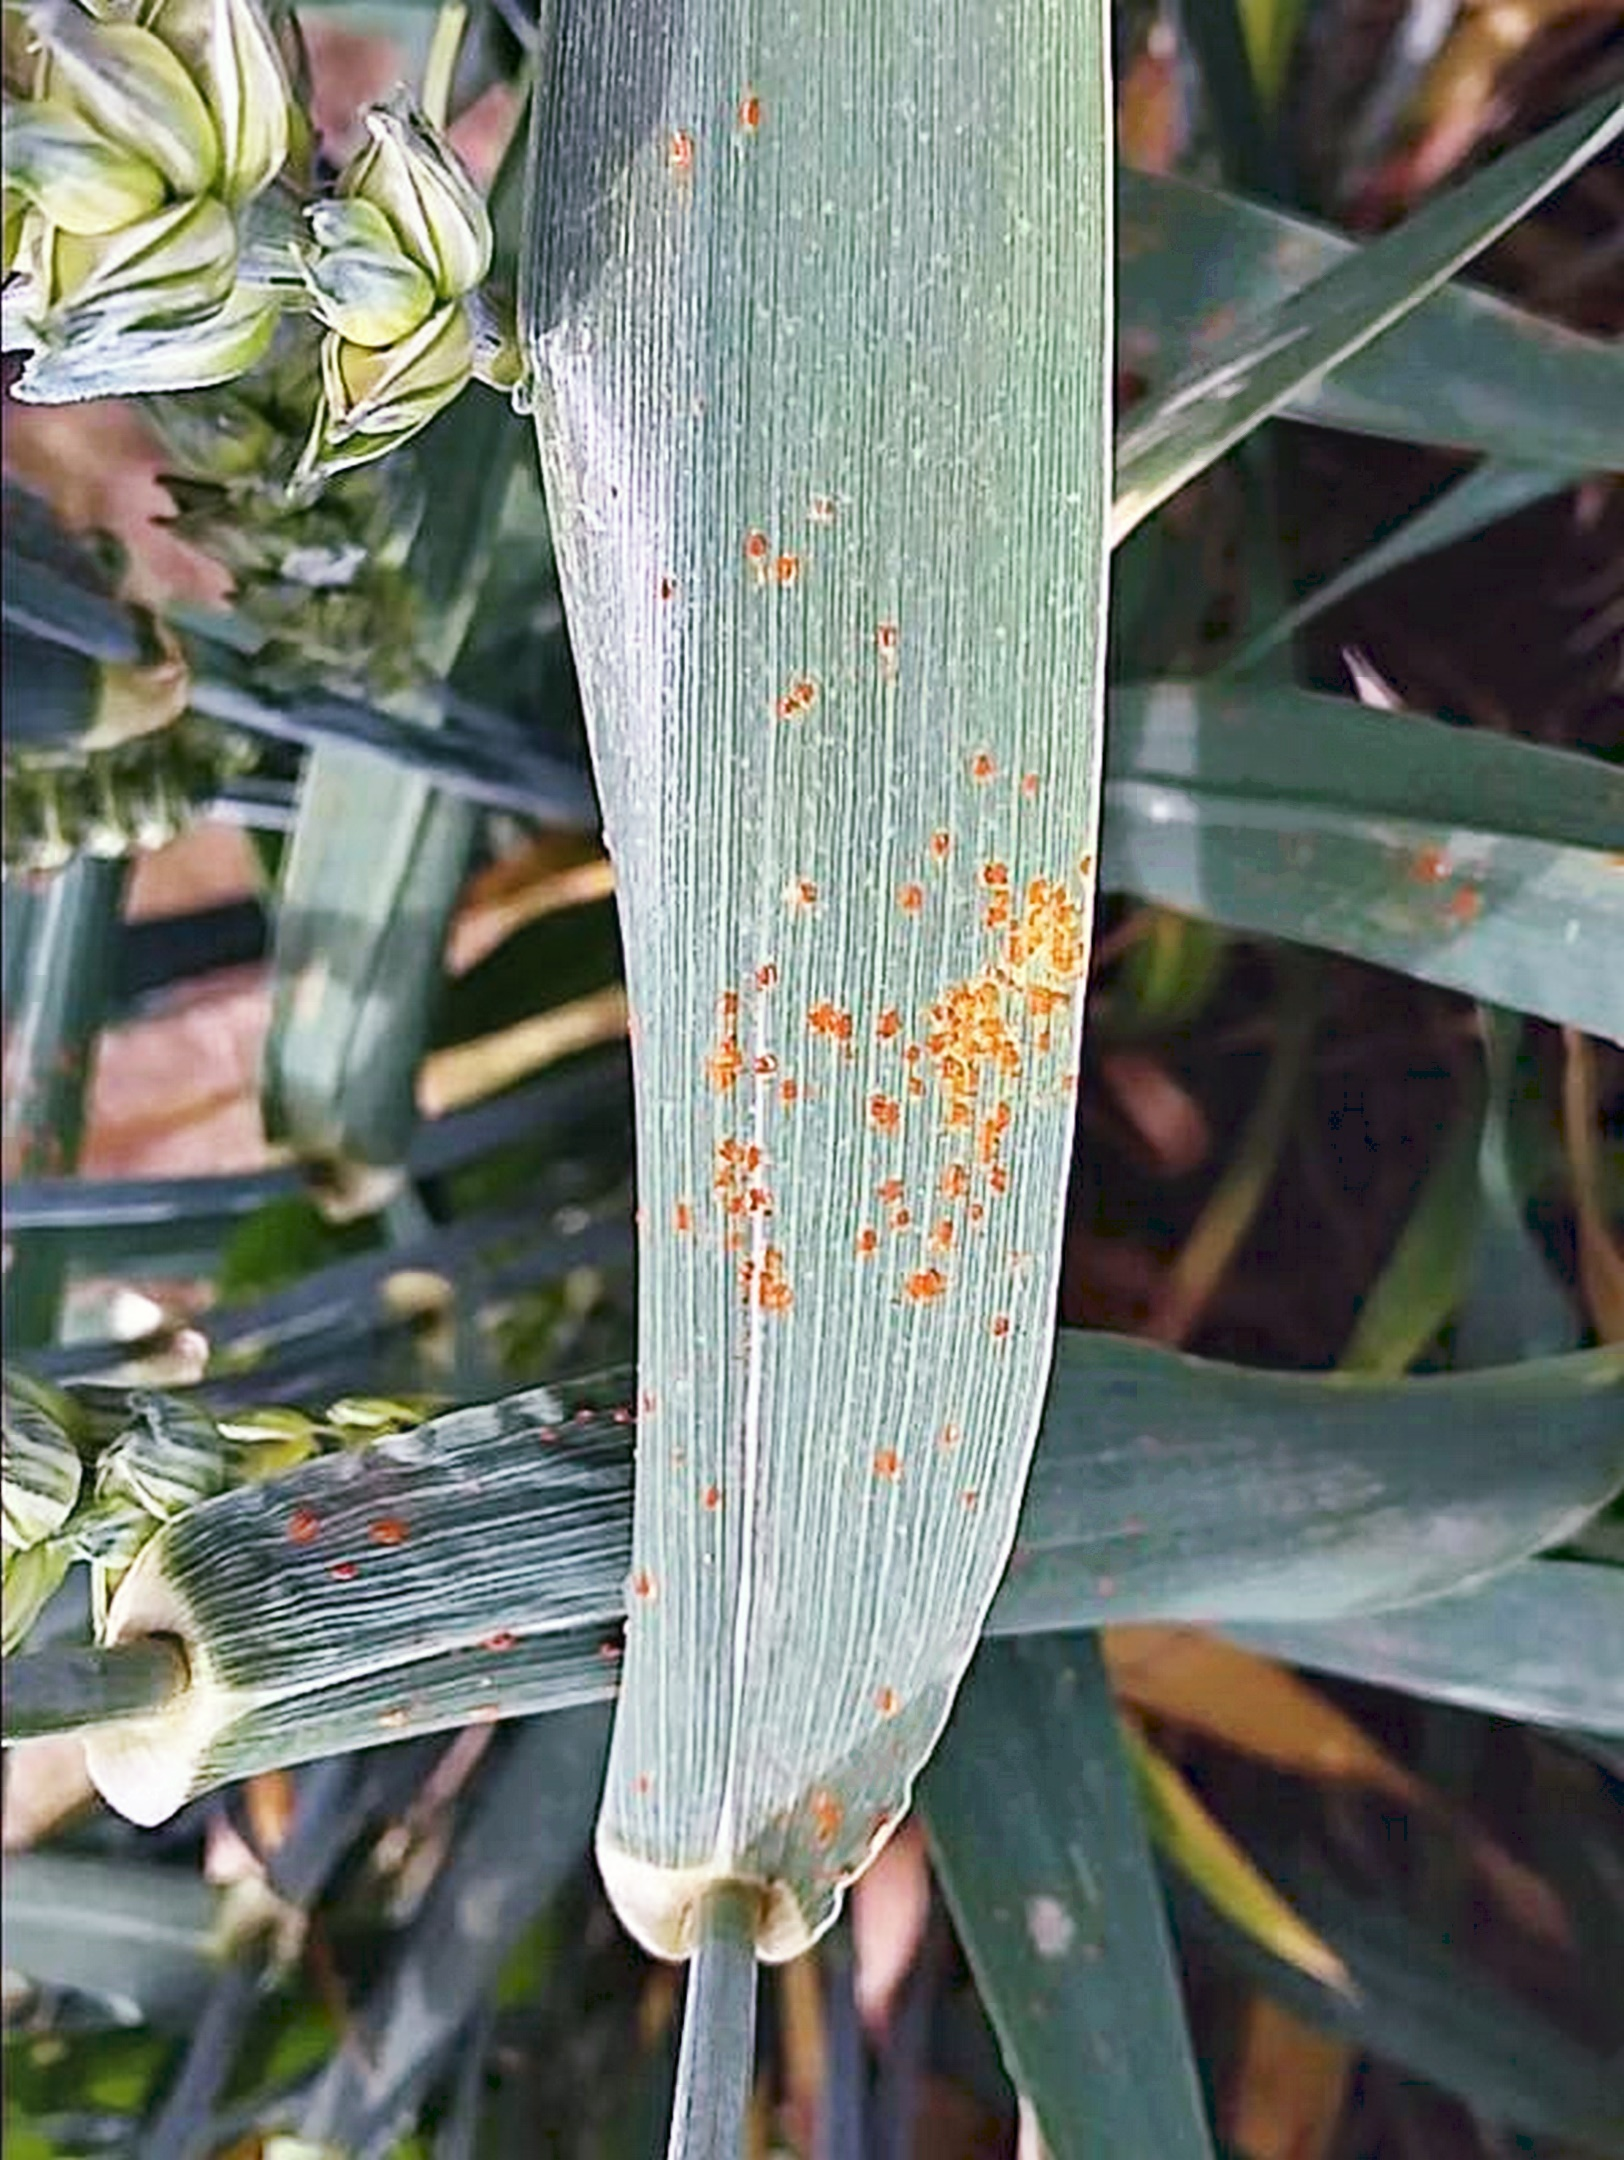Leaf Rust: (565, 582, 1327, 1495)
